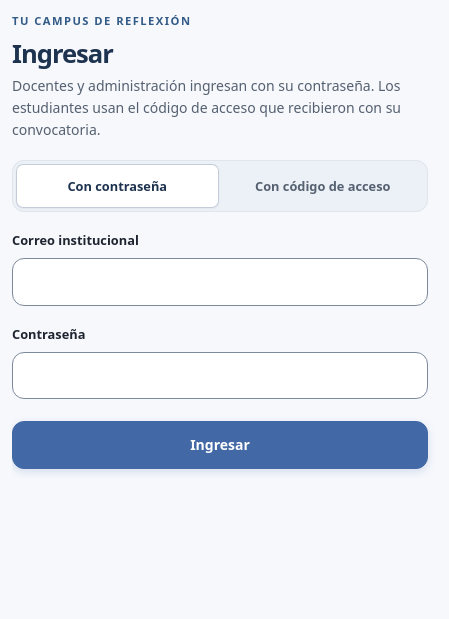
Test case: acceso › muestra el motivo del servidor si la sesión aún no admite ingresos
The image size is (449, 619).
Click the radio button labelled "Con código de acceso". click: x=323, y=186
box: [255,177,390,195]
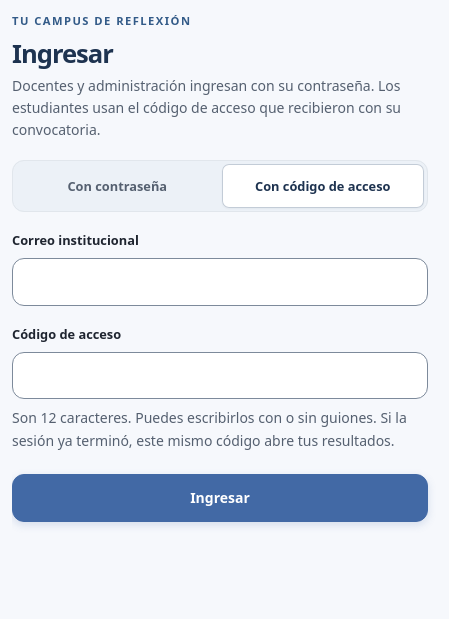
Type "est@uni.edu.co" into the field labelled "Correo institucional". click: x=220, y=282
box: [12,258,428,306]
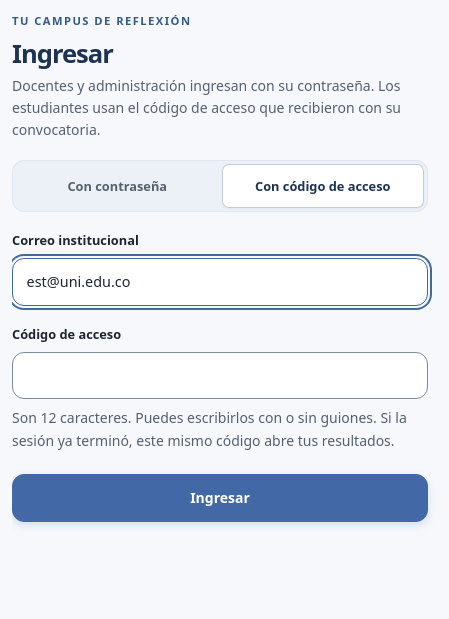
Type "ABCDEFGHJKMN" into the field labelled "Código de acceso". click: x=220, y=376
box: [12,352,428,399]
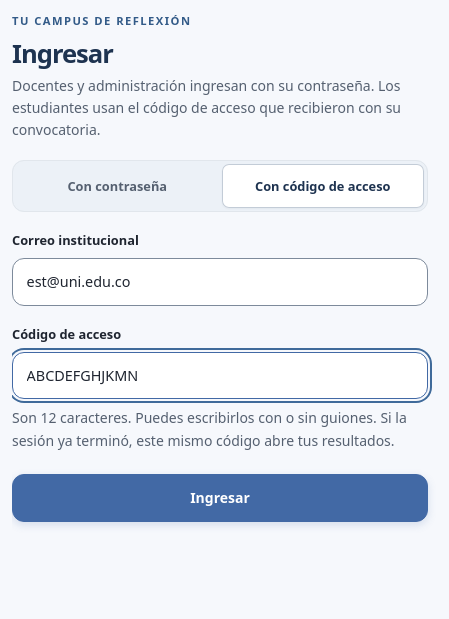
Click the button "Ingresar". click: x=220, y=498
box: [12,474,428,522]
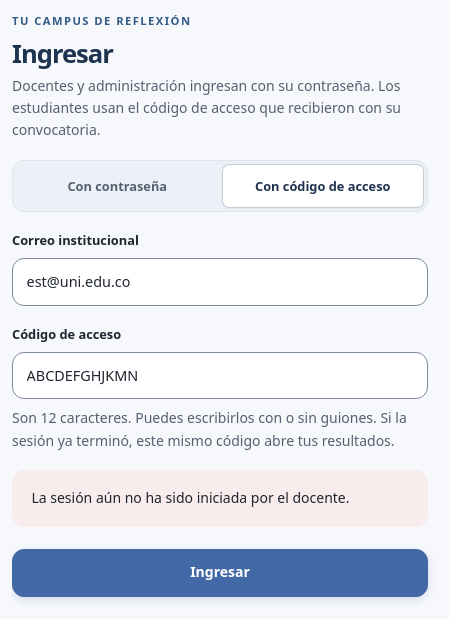
Expected: the text "La sesión aún no ha sido iniciada por el docente." is shown, [31,487,350,510]
